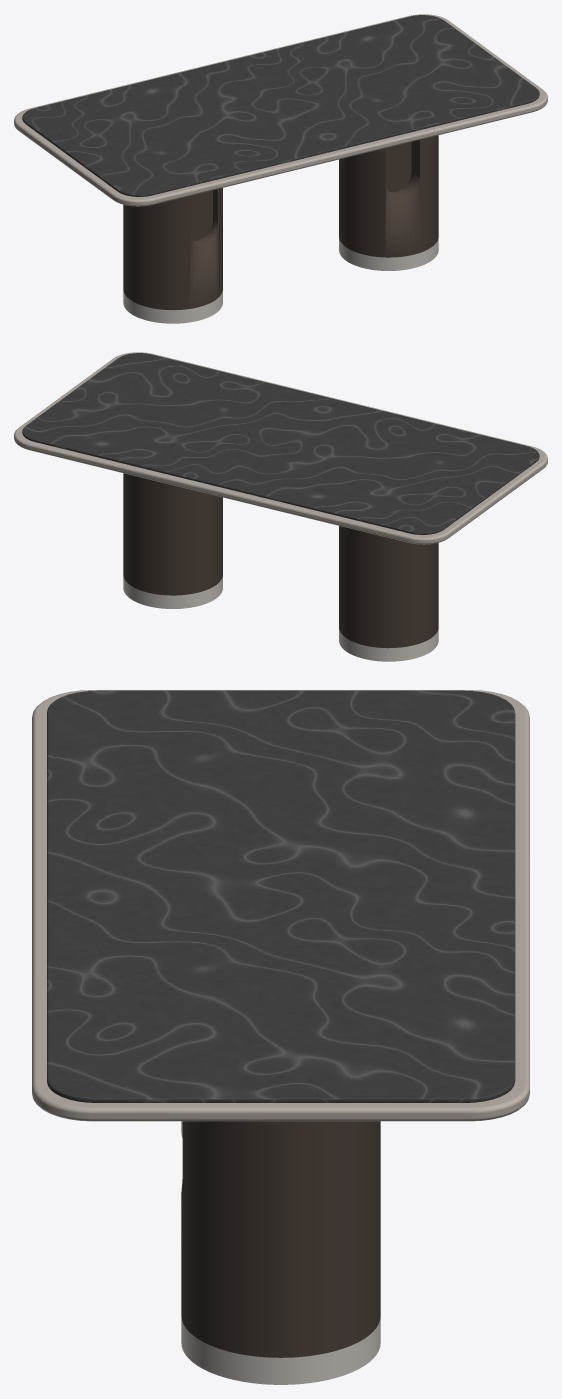
File: infinity-plus-dining-set--dtable6.glb
The picture shows the model from 3 angles, top to bottom: view 1: azimuth 30°, elevation 25°; view 2: azimuth 150°, elevation 25°; view 3: azimuth 270°, elevation 25°; orthographic projection. The views are drawn at different scales.
Visible parts, largest first — view 1: top, drum-1, drum1, rim, ring-1, ring1; view 2: top, drum-1, drum1, rim, ring-1, ring1; view 3: top, drum1, rim, ring1.
Boxes of the visible parts, <box> form: top: <box>22,15,539,196</box>; drum-1: <box>123,188,222,310</box>; drum1: <box>339,135,438,257</box>; rim: <box>14,14,547,206</box>; ring-1: <box>123,291,222,323</box>; ring1: <box>339,238,438,270</box>; top: <box>22,353,539,534</box>; drum-1: <box>339,526,438,648</box>; drum1: <box>123,473,222,595</box>; rim: <box>14,352,547,544</box>; ring-1: <box>339,629,438,661</box>; ring1: <box>123,576,222,608</box>; top: <box>47,690,515,1102</box>; drum1: <box>181,1121,380,1357</box>; rim: <box>32,690,529,1121</box>; ring1: <box>181,1317,380,1384</box>.
Size of the model in its own units: 2 by 0.76 by 1.
4 materials, 1 textured.
